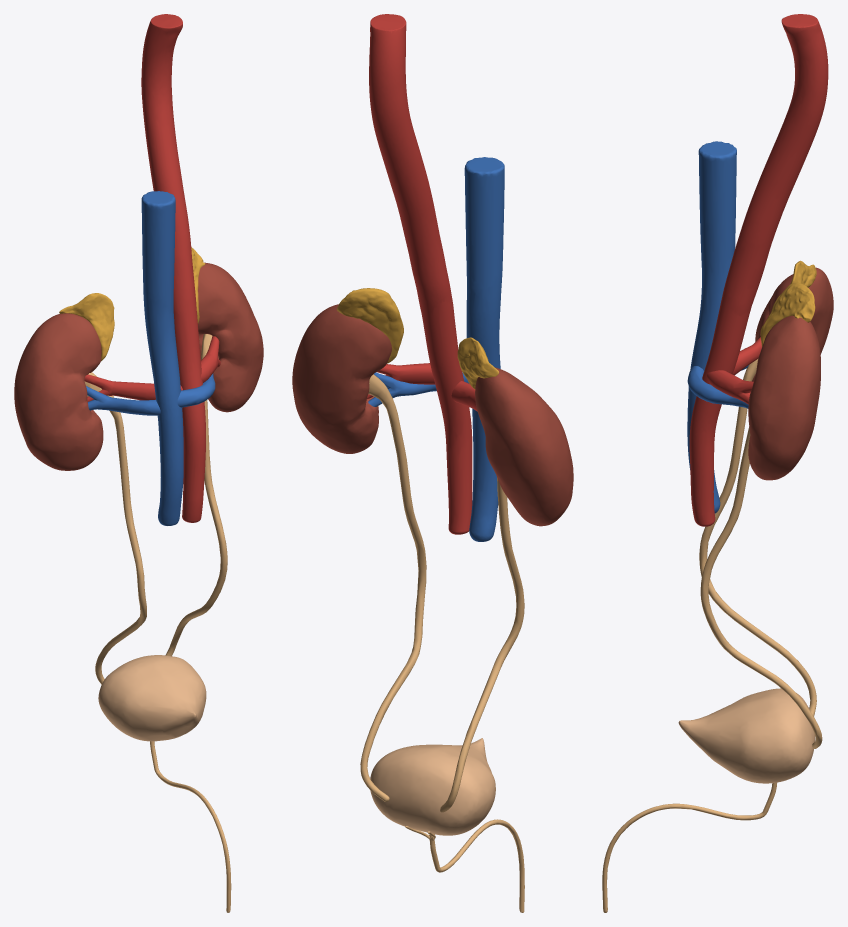
The picture shows the model from 3 angles, left to right: view 1: azimuth 30°, elevation 25°; view 2: azimuth 150°, elevation 25°; view 3: azimuth 270°, elevation 25°; orthographic projection. The views are drawn at different scales.
Parts seen in each view (by area): view 1: s12, s0, s13, s10, s5, s4, s9, s1, s3, s2, s11, s8 (+1 smaller); view 2: s12, s5, s0, s13, s10, s9, s4, s6, s11, s1, s7, s8; view 3: s12, s5, s10, s13, s9, s4, s0, s6, s11, s8, s7, s2.
Boxes of the visible parts, box(x1,y1,x2,y2) form: s12: box(141, 14, 205, 522); s0: box(14, 313, 103, 470); s13: box(141, 191, 183, 525); s10: box(98, 655, 206, 741); s5: box(198, 262, 263, 412); s4: box(84, 372, 146, 684); s9: box(165, 334, 227, 656); s1: box(59, 293, 114, 361); s3: box(86, 386, 160, 415); s2: box(84, 374, 182, 401); s11: box(150, 741, 231, 912); s8: box(177, 373, 215, 407); s12: box(369, 14, 472, 534); s5: box(292, 304, 391, 453); s0: box(475, 367, 573, 526); s13: box(464, 157, 504, 541); s10: box(370, 738, 495, 835); s9: box(360, 374, 426, 801); s4: box(440, 477, 524, 812); s6: box(337, 288, 403, 363); s11: box(405, 819, 524, 912); s1: box(457, 337, 499, 389); s7: box(367, 363, 434, 398); s8: box(368, 372, 469, 406); s12: box(689, 14, 828, 526); s5: box(748, 315, 820, 480); s10: box(678, 688, 815, 783); s13: box(687, 141, 736, 513); s9: box(700, 426, 822, 748); s4: box(699, 359, 816, 716); s0: box(752, 267, 833, 381); s6: box(760, 282, 815, 346); s11: box(602, 782, 776, 912); s8: box(687, 366, 748, 408); s7: box(707, 370, 753, 404); s2: box(732, 337, 761, 375).
Size of the model in its own units: 181 by 606 by 140.
